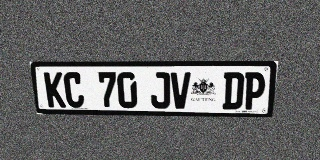0: (117, 72, 137, 108)
7: (97, 72, 118, 108)
C: (63, 72, 85, 108)
D: (222, 72, 245, 109)
J: (150, 72, 170, 109)
K: (43, 72, 66, 107)
P: (242, 72, 266, 110)
V: (171, 72, 191, 109)
